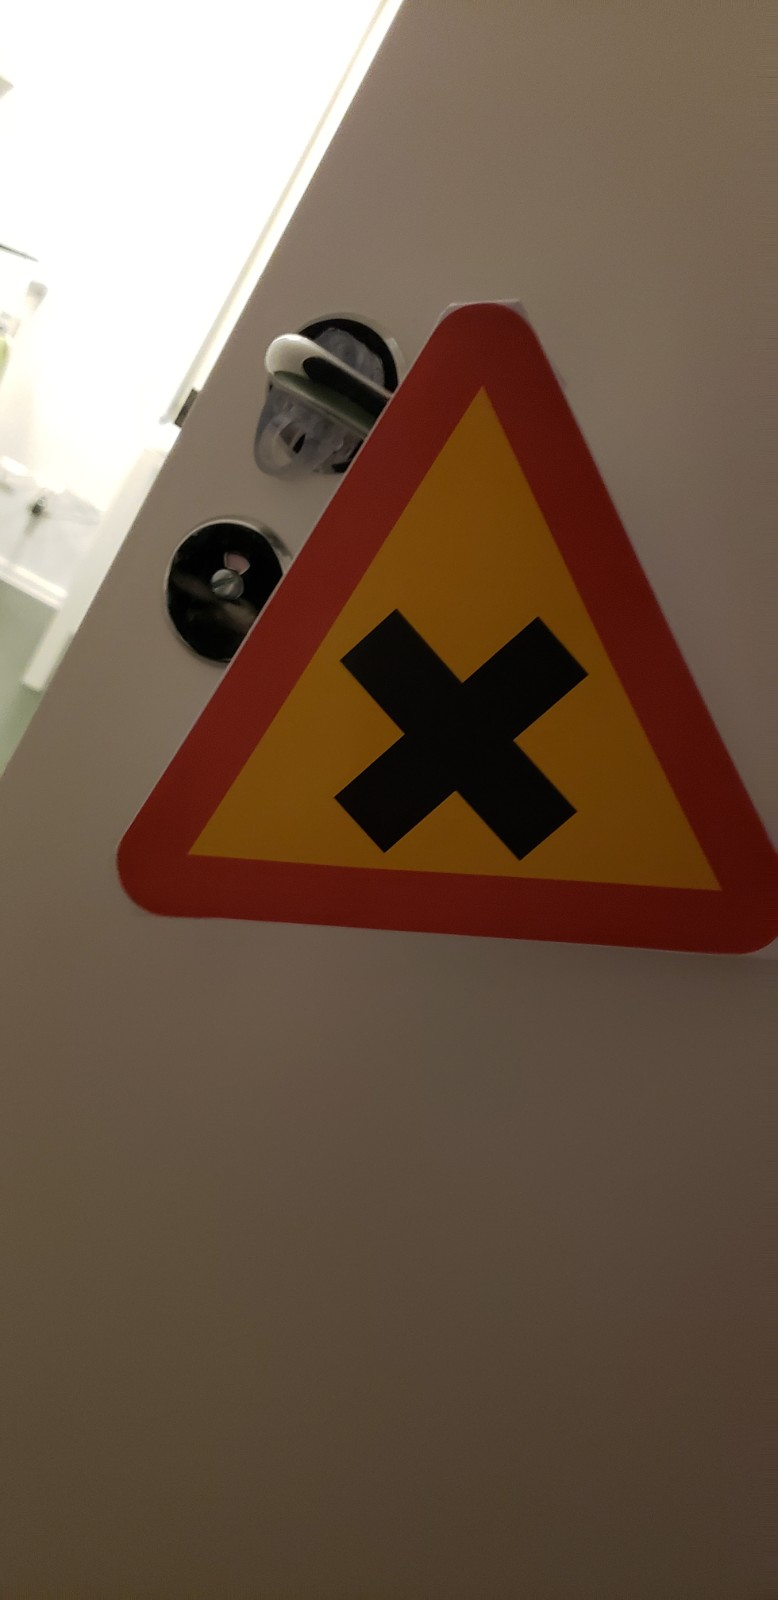junction: (85, 264, 778, 1033)
